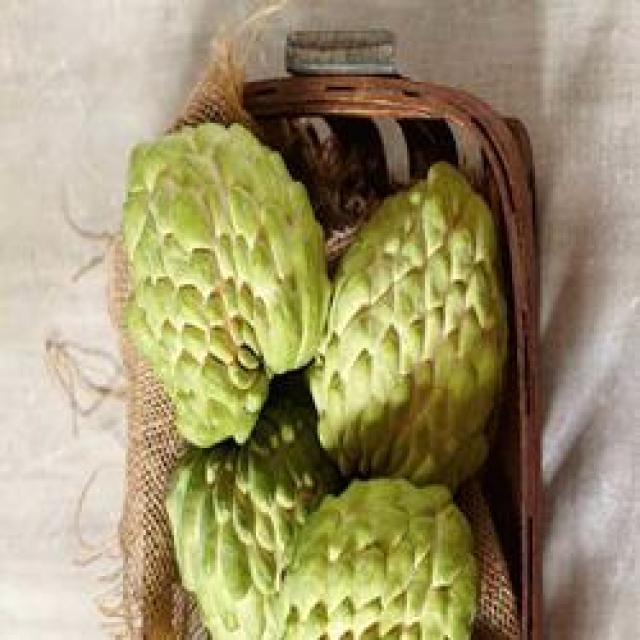apple: (115, 123, 333, 453), (322, 141, 524, 491)
